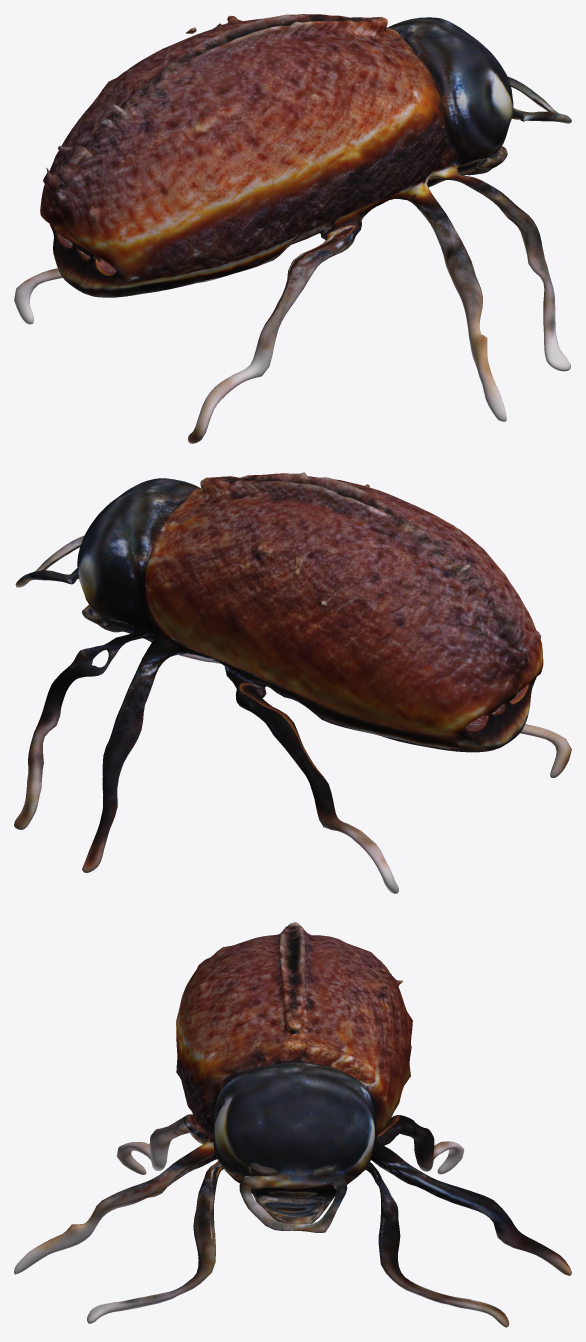
The model's file is db3a52adaca9_escarabajo_con_masc.obj.
The picture shows the model from 3 angles, top to bottom: view 1: azimuth 30°, elevation 25°; view 2: azimuth 150°, elevation 25°; view 3: azimuth 270°, elevation 25°; orthographic projection. The views are drawn at different scales.
Parts seen in each view (by area): view 1: mesh; view 2: mesh; view 3: mesh.
Boxes of the visible parts, left/top/right/bottom form: mesh: left=14, top=14, right=571, bottom=443; mesh: left=14, top=472, right=571, bottom=893; mesh: left=14, top=922, right=571, bottom=1327.
Bounding box in the file's own units: 0.9636 × 0.588 × 0.9966.
Materials: 1 (1 with a texture image).
